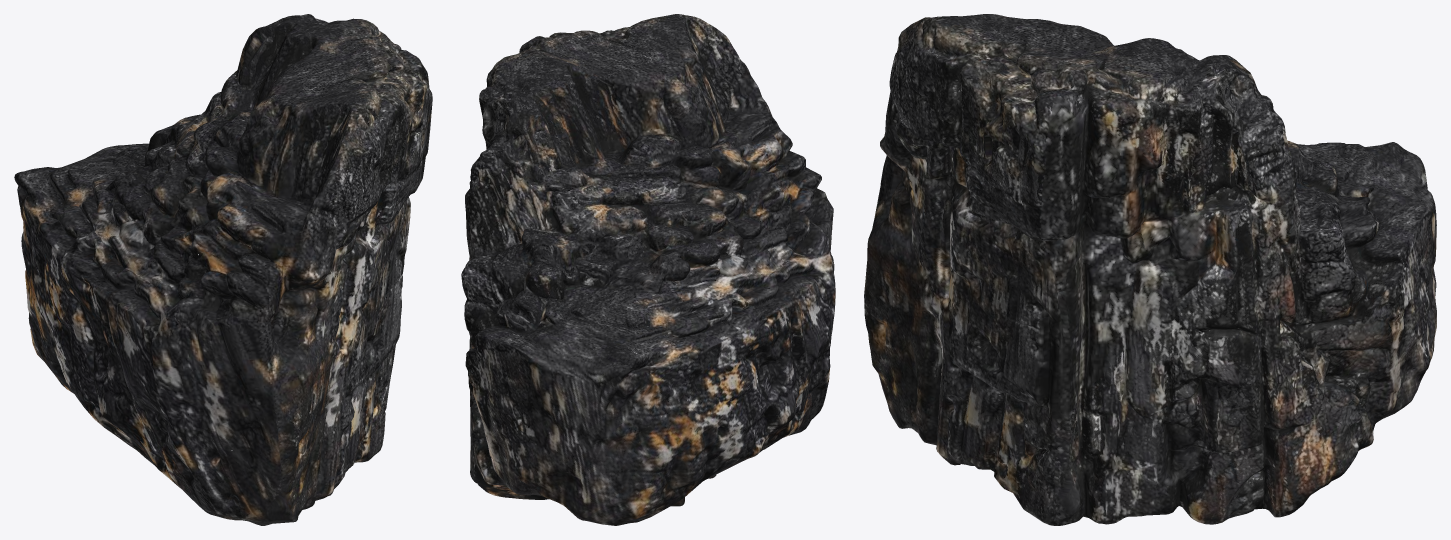
Rendered from protection.glb.
3 renders of one model, left to right at view 1: azimuth 30°, elevation 25°; view 2: azimuth 150°, elevation 25°; view 3: azimuth 270°, elevation 25°, orthographic. The views are drawn at different scales.
Parts seen in each view (by area): view 1: tripo_node_d6bc4082-476c-40e5-a838-51cd597f1aa3; view 2: tripo_node_d6bc4082-476c-40e5-a838-51cd597f1aa3; view 3: tripo_node_d6bc4082-476c-40e5-a838-51cd597f1aa3.
Part boxes in pixels (box(x1,y1,x2,y2)): tripo_node_d6bc4082-476c-40e5-a838-51cd597f1aa3: box(14, 14, 432, 525); tripo_node_d6bc4082-476c-40e5-a838-51cd597f1aa3: box(461, 14, 835, 525); tripo_node_d6bc4082-476c-40e5-a838-51cd597f1aa3: box(864, 14, 1436, 525).
Bounding box in the file's own units: 0.7058 × 0.8867 × 0.9787.
Materials: 1 (1 with a texture image).
